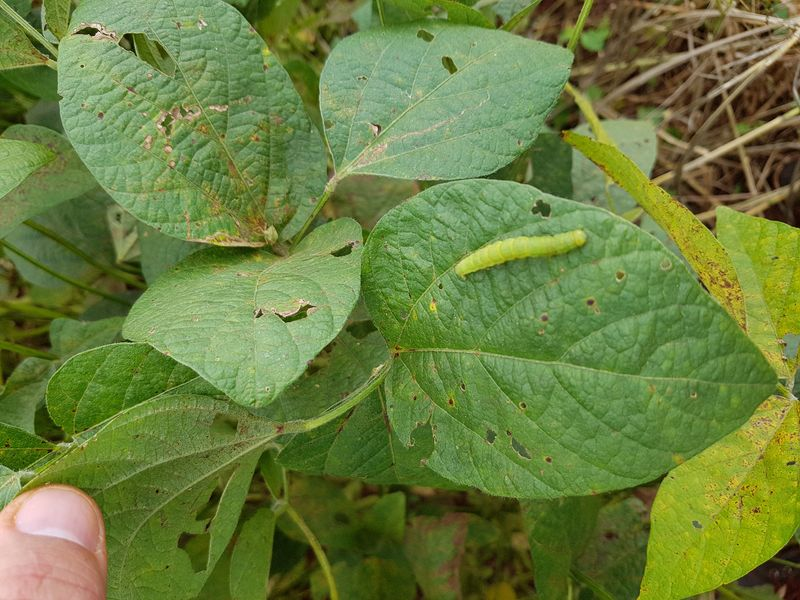Anticarsia_gemmatalis: (443, 211, 599, 304)
